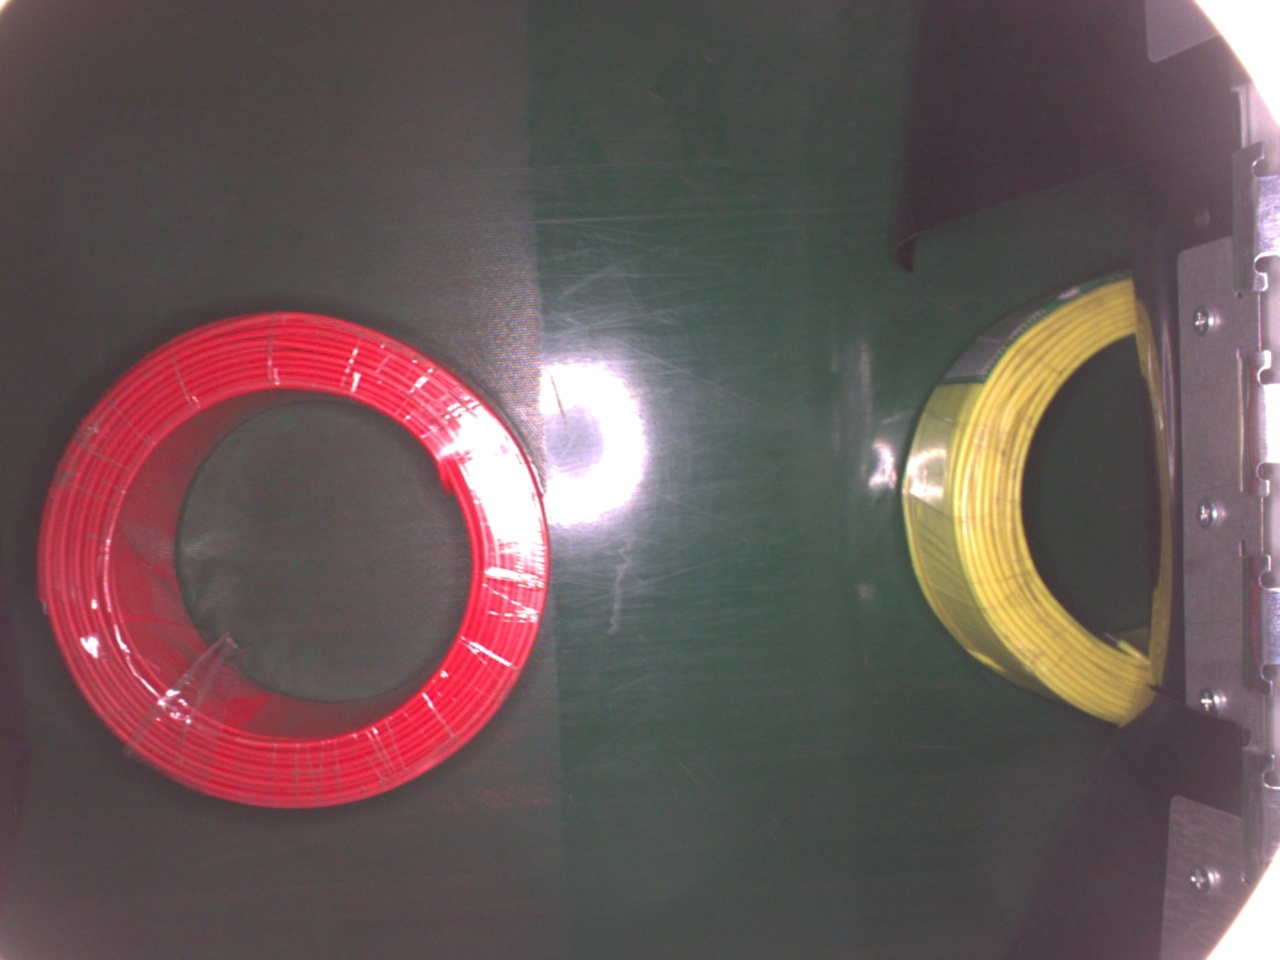red: (35, 308, 549, 810)
yellow: (898, 271, 1151, 723)
